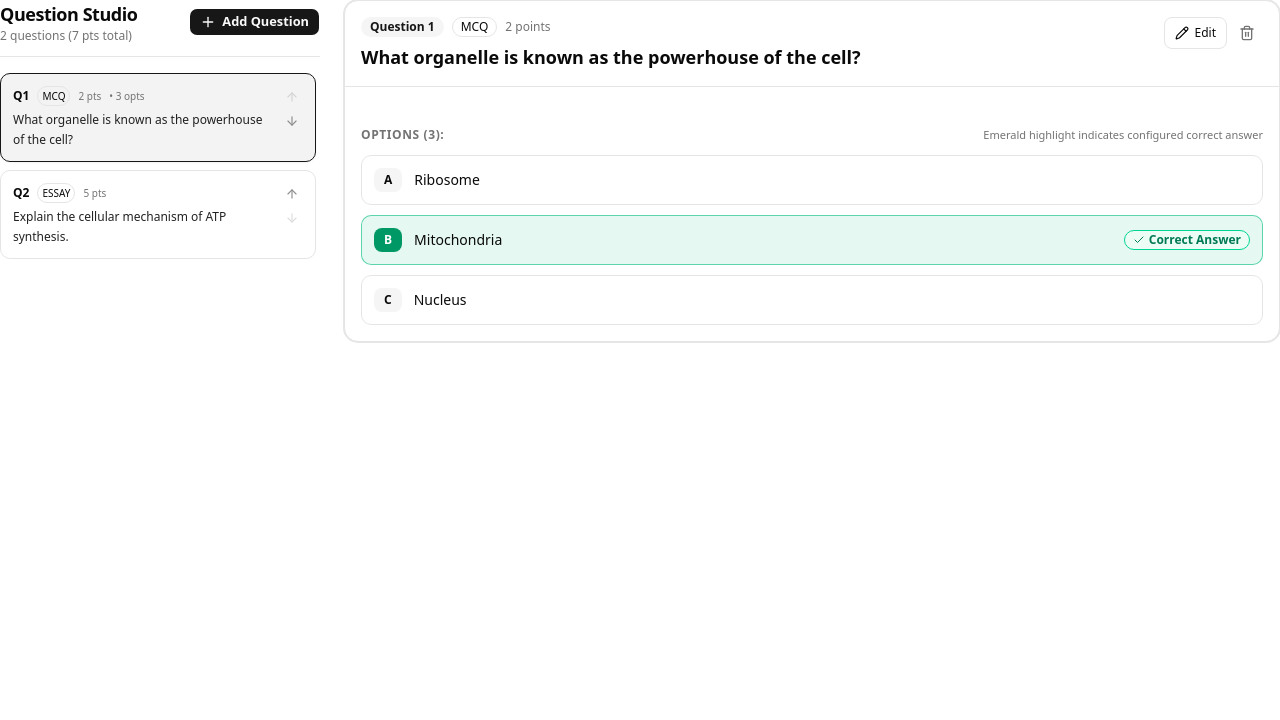
Scenario: QuestionManager Component › Deleting a Question › prompts with confirmation dialog and deletes question upon confirm
Click Delete on selected Question 1
Click the button named "Delete question 1". click: (1247, 33)
box: [1231,17,1263,49]
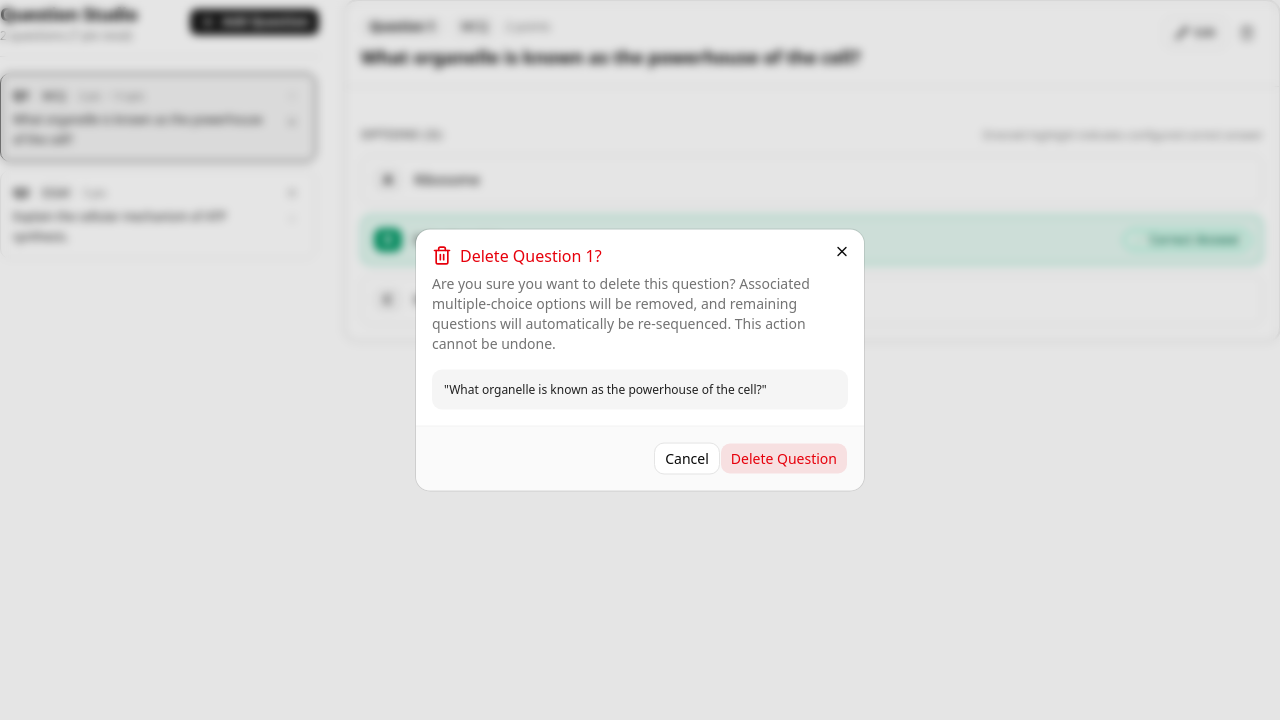
Now the heading "Delete Question 1?" is shown, box [432,244,602,266]
Now the text "Associated multiple-choice options will be removed" is shown, box [432,274,810,352]
Confirm delete
Click the button "Delete Question". click: (784, 458)
box: [720,442,848,474]
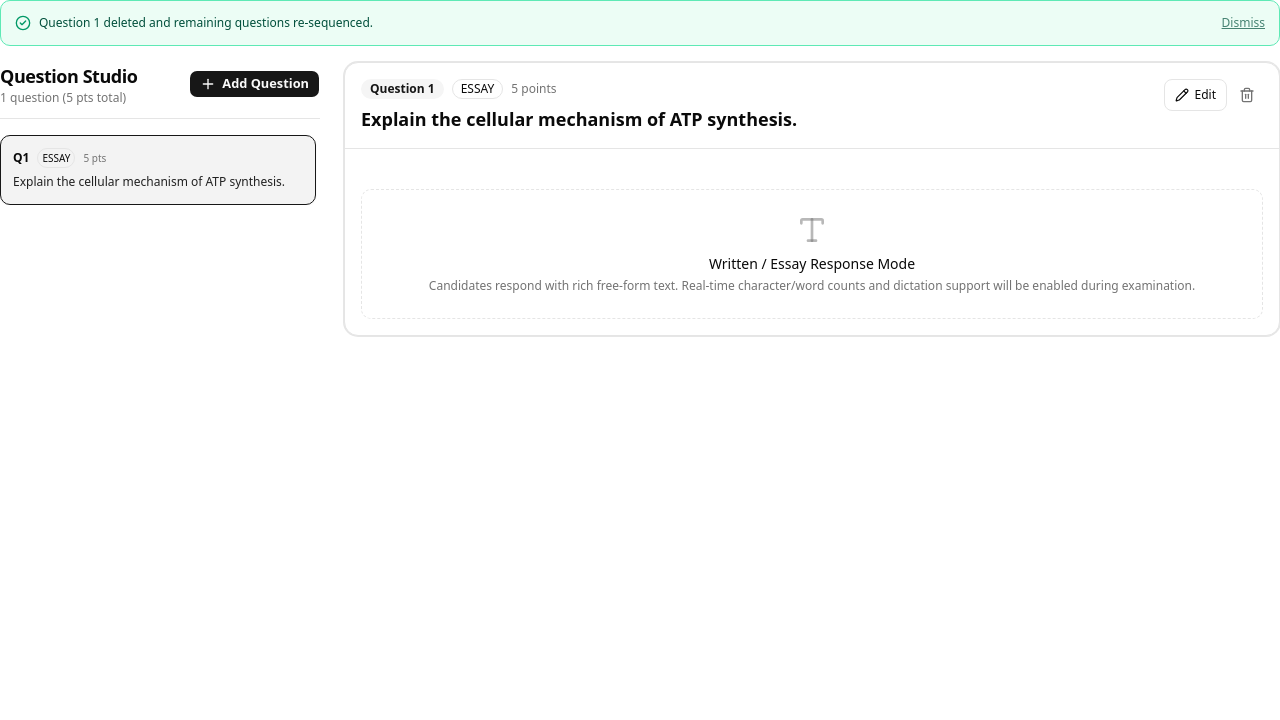
Now the text "Question 1 deleted and remaining questions re-sequenced." is shown, box [39,15,373,31]
